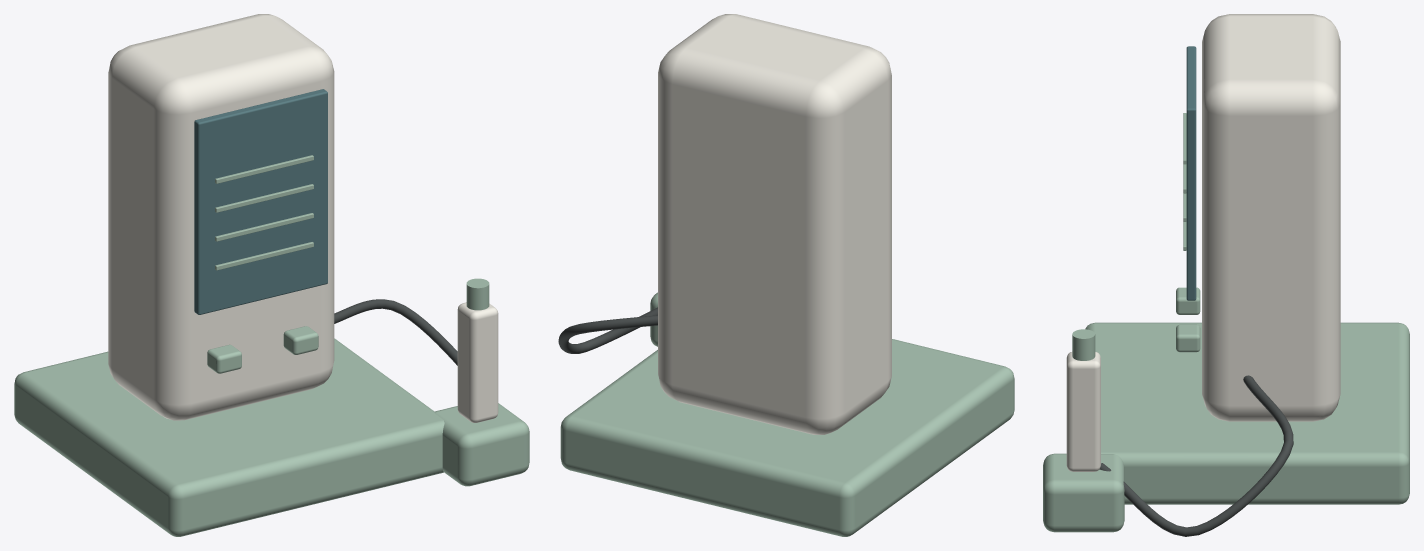
The model's file is hearing-aid-and-audiology-clinic-tympanometer-4dbddbb2__31731.glb.
3 views of the same model, side by side, from view 1: azimuth 30°, elevation 25°; view 2: azimuth 150°, elevation 25°; view 3: azimuth 270°, elevation 25° (orthographic). The views are drawn at different scales.
Parts seen in each view (by area): view 1: tympanometer; view 2: tympanometer; view 3: tympanometer.
Boxes of the visible parts, x1,y1,x2,y2 form: tympanometer: (14, 14, 529, 536); tympanometer: (558, 14, 1014, 536); tympanometer: (1043, 14, 1409, 536).
Size of the model in its own units: 0.2633 by 0.265 by 0.225.
